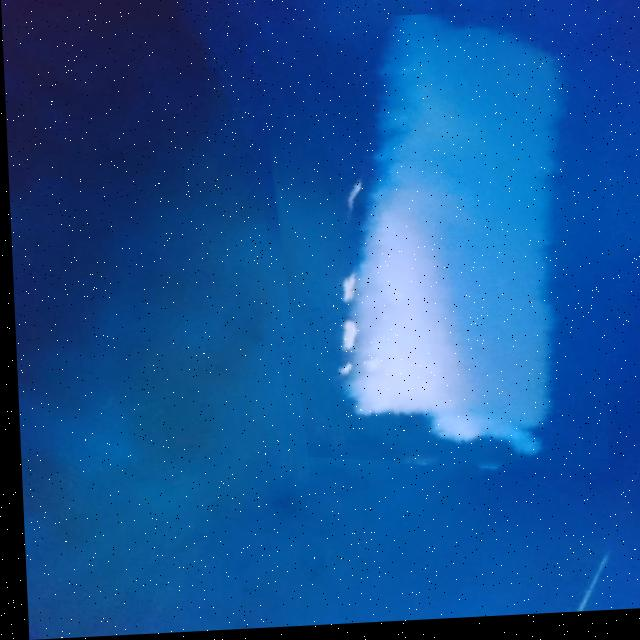thermocoal: (249, 12, 604, 497)
